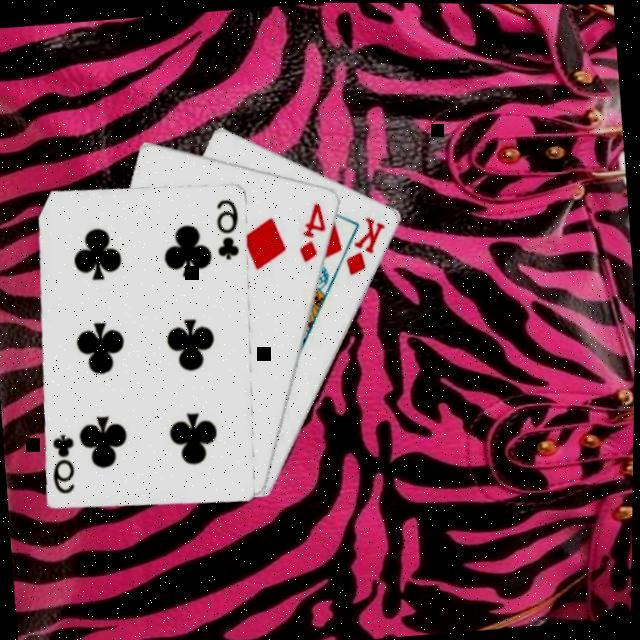4D: (294, 199, 334, 266)
6C: (212, 194, 249, 262), (50, 429, 84, 496)
KD: (341, 212, 395, 280)
